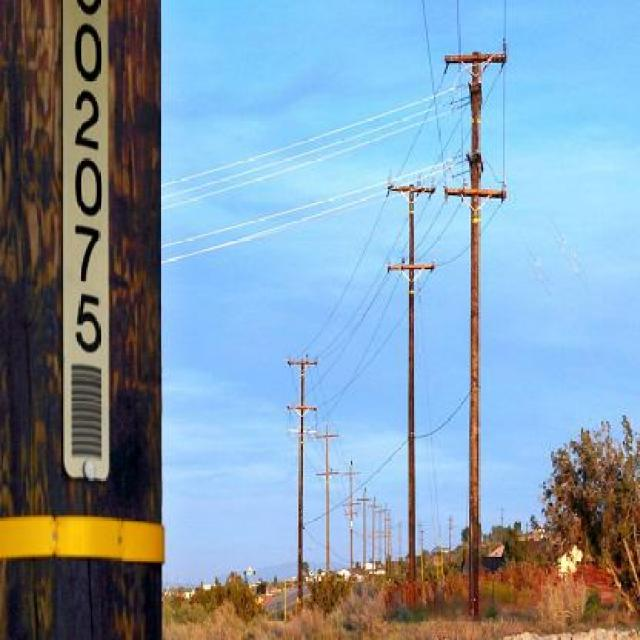pole: (434, 39, 514, 618), (374, 173, 438, 582), (277, 346, 326, 599)
